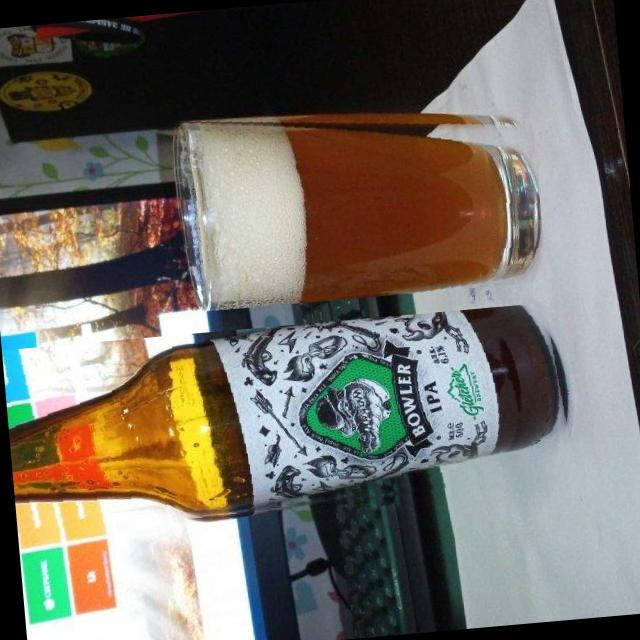Glass: (1, 300, 576, 537), (169, 88, 546, 312)
